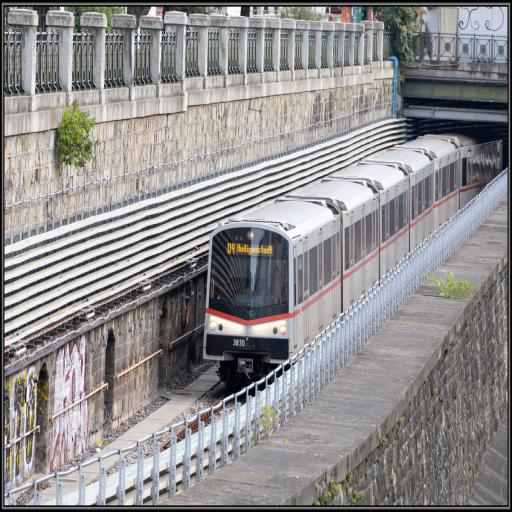V-Wagen: (202, 130, 478, 364)
